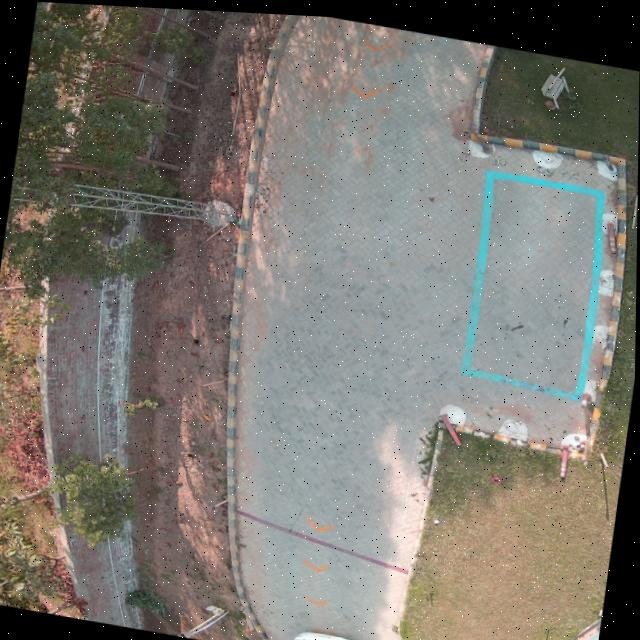car: (292, 627, 365, 640)
